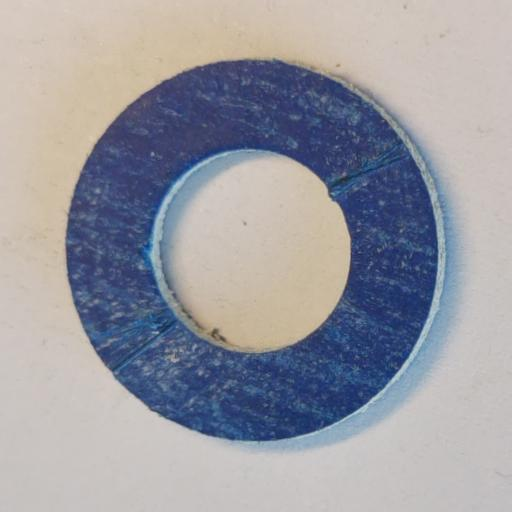defect: (103, 310, 181, 374), (327, 142, 411, 194)
